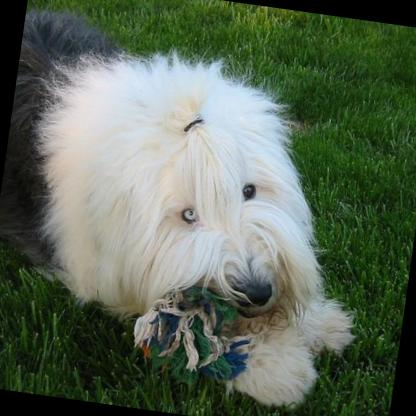Old_English_sheepdog: (0, 3, 390, 416)
